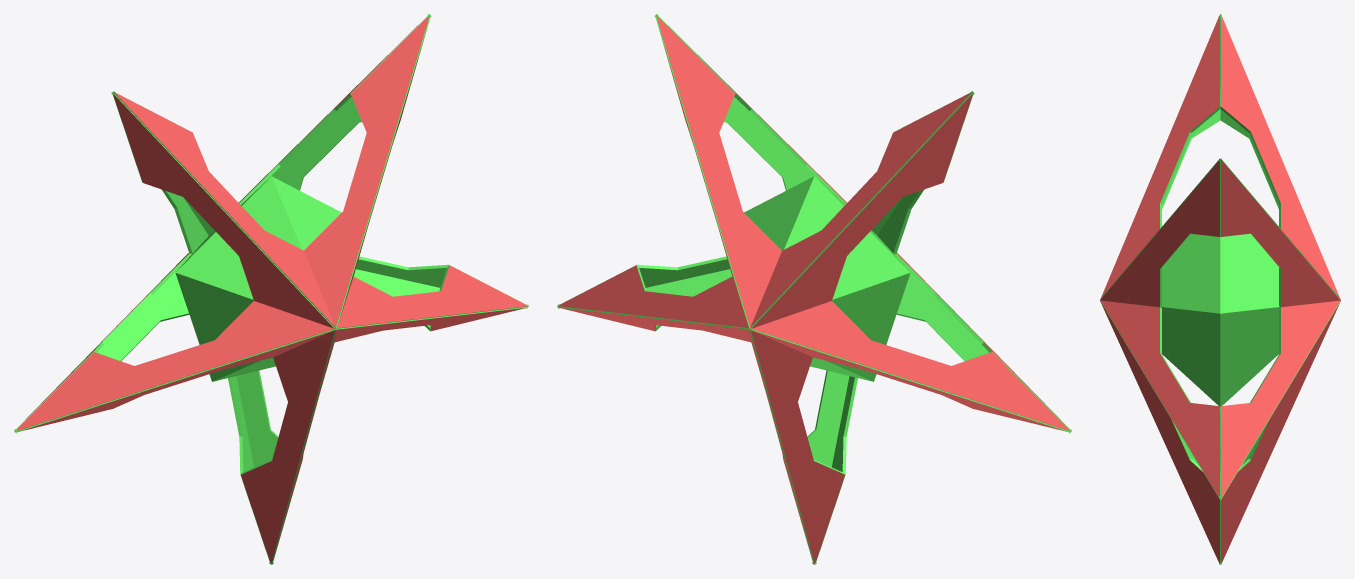
File: PentagrammicDipyramidS.glb
3 renders of one model, left to right at view 1: azimuth 30°, elevation 25°; view 2: azimuth 150°, elevation 25°; view 3: azimuth 270°, elevation 25°, orthographic. The views are drawn at different scales.
Parts seen in each view (by area): view 1: Mesh_1, Mesh_0.009; view 2: Mesh_1, Mesh_0.009; view 3: Mesh_1, Mesh_0.009.
Boxes of the visible parts, left/top/right/bottom form: Mesh_1: left=14, top=14, right=528, bottom=564; Mesh_0.009: left=175, top=176, right=341, bottom=381; Mesh_1: left=557, top=14, right=1071, bottom=564; Mesh_0.009: left=744, top=176, right=910, bottom=381; Mesh_1: left=1100, top=14, right=1340, bottom=564; Mesh_0.009: left=1161, top=233, right=1279, bottom=406.
Size of the model in its own units: 9.24 by 8.79 by 4.01.
